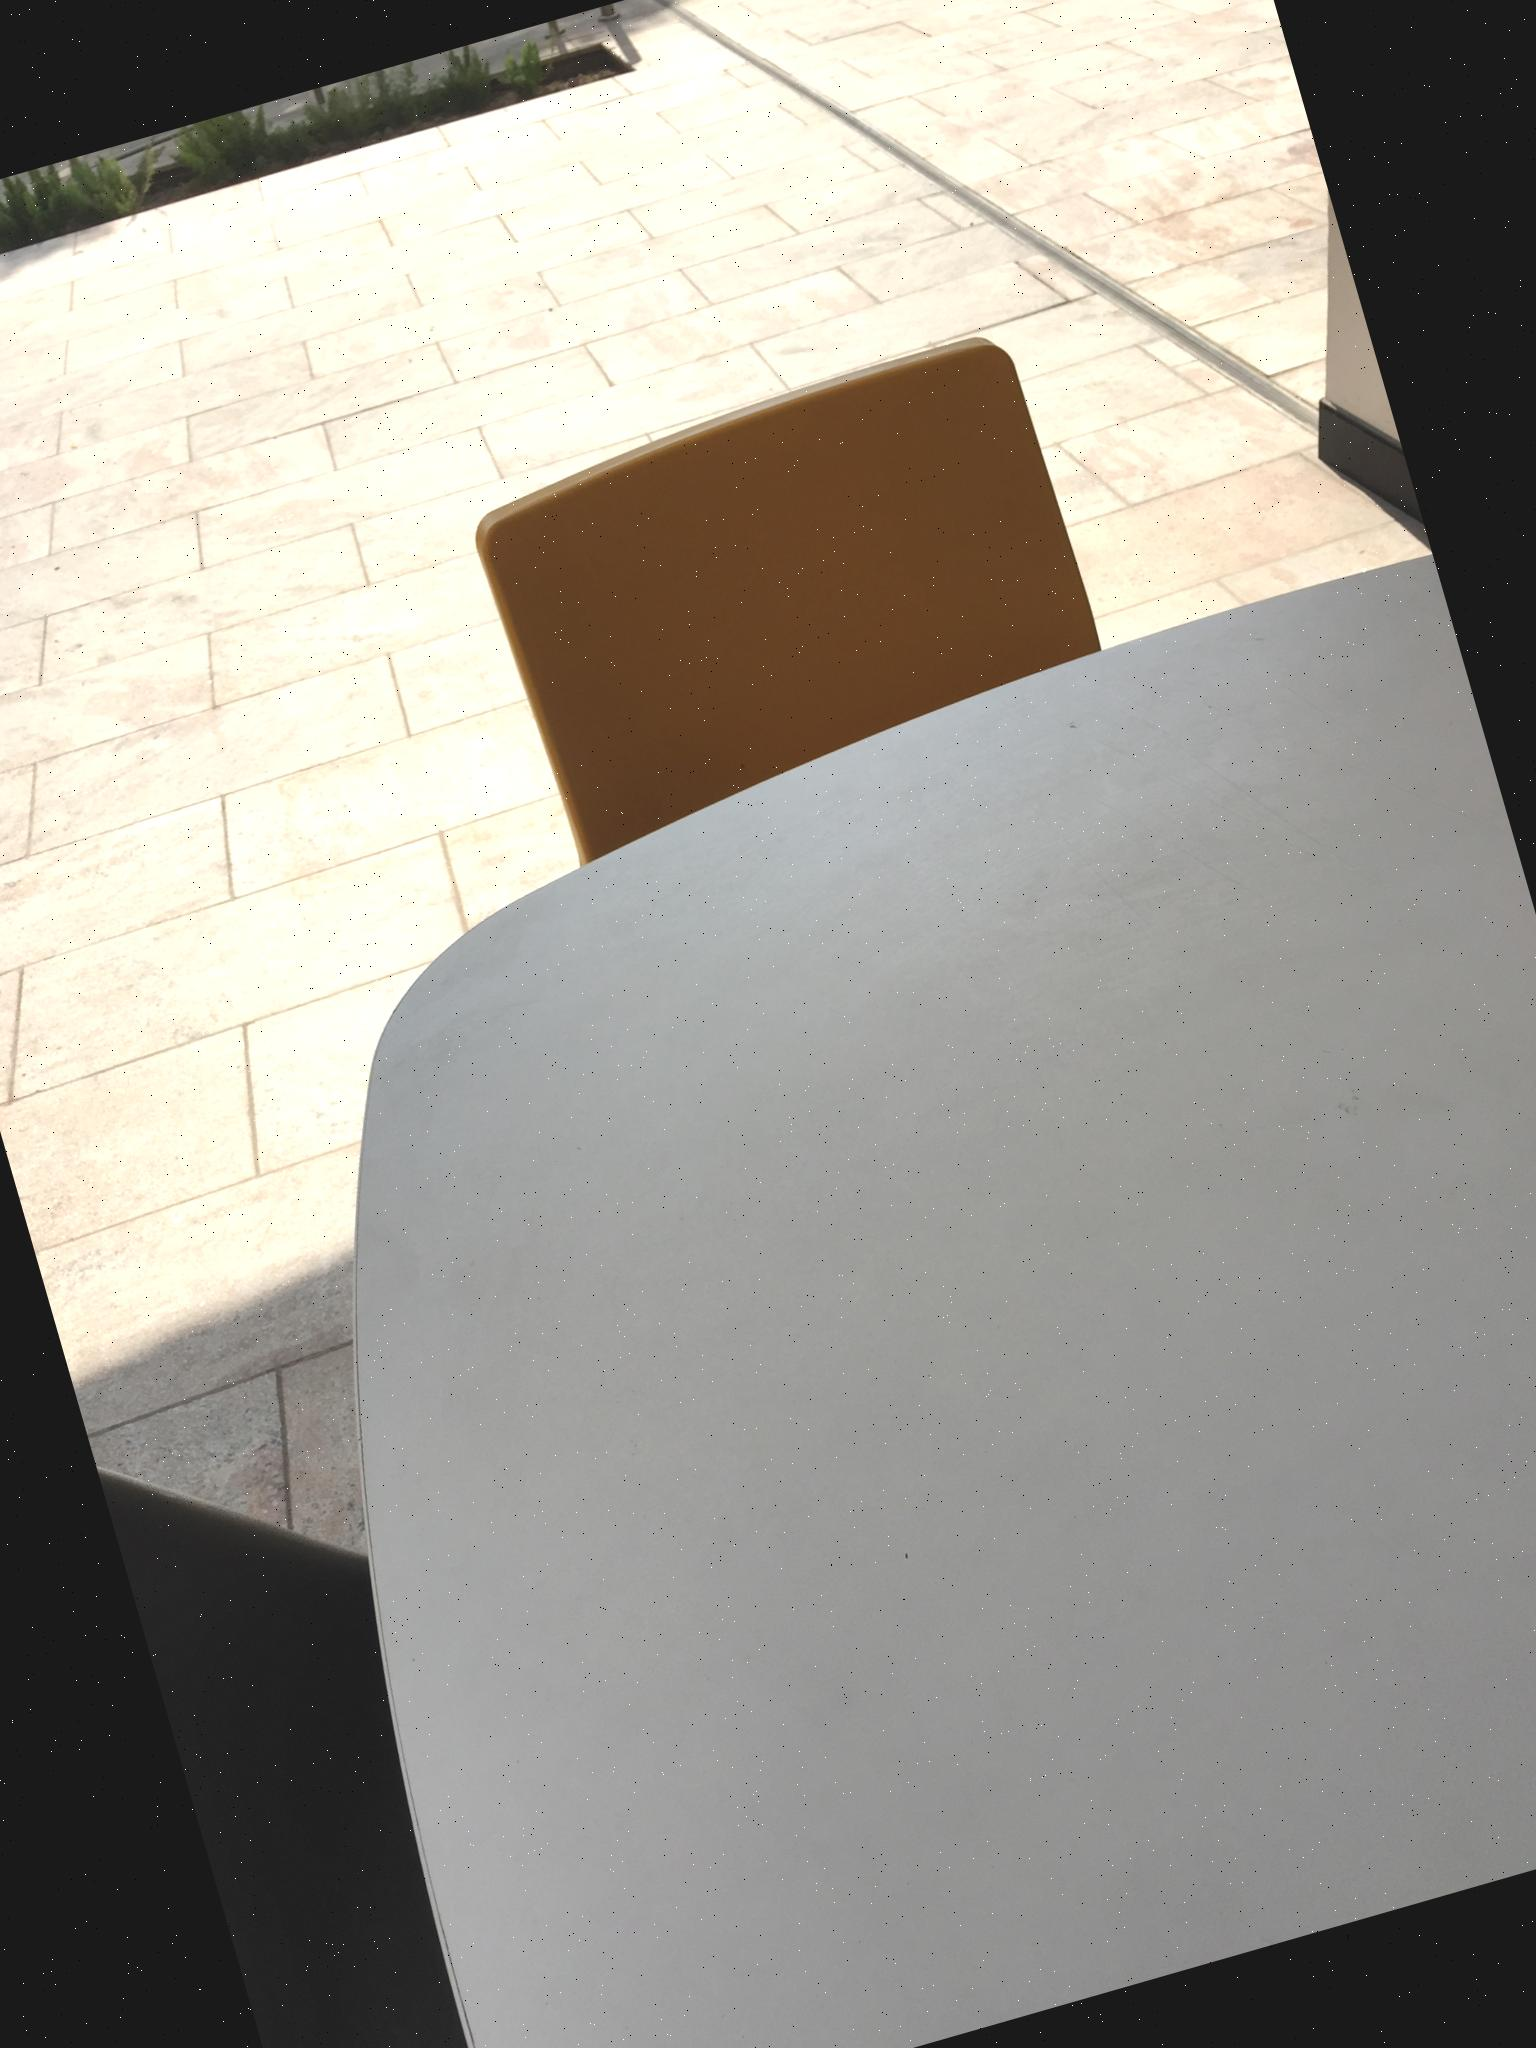chair: (455, 323, 1121, 871)
